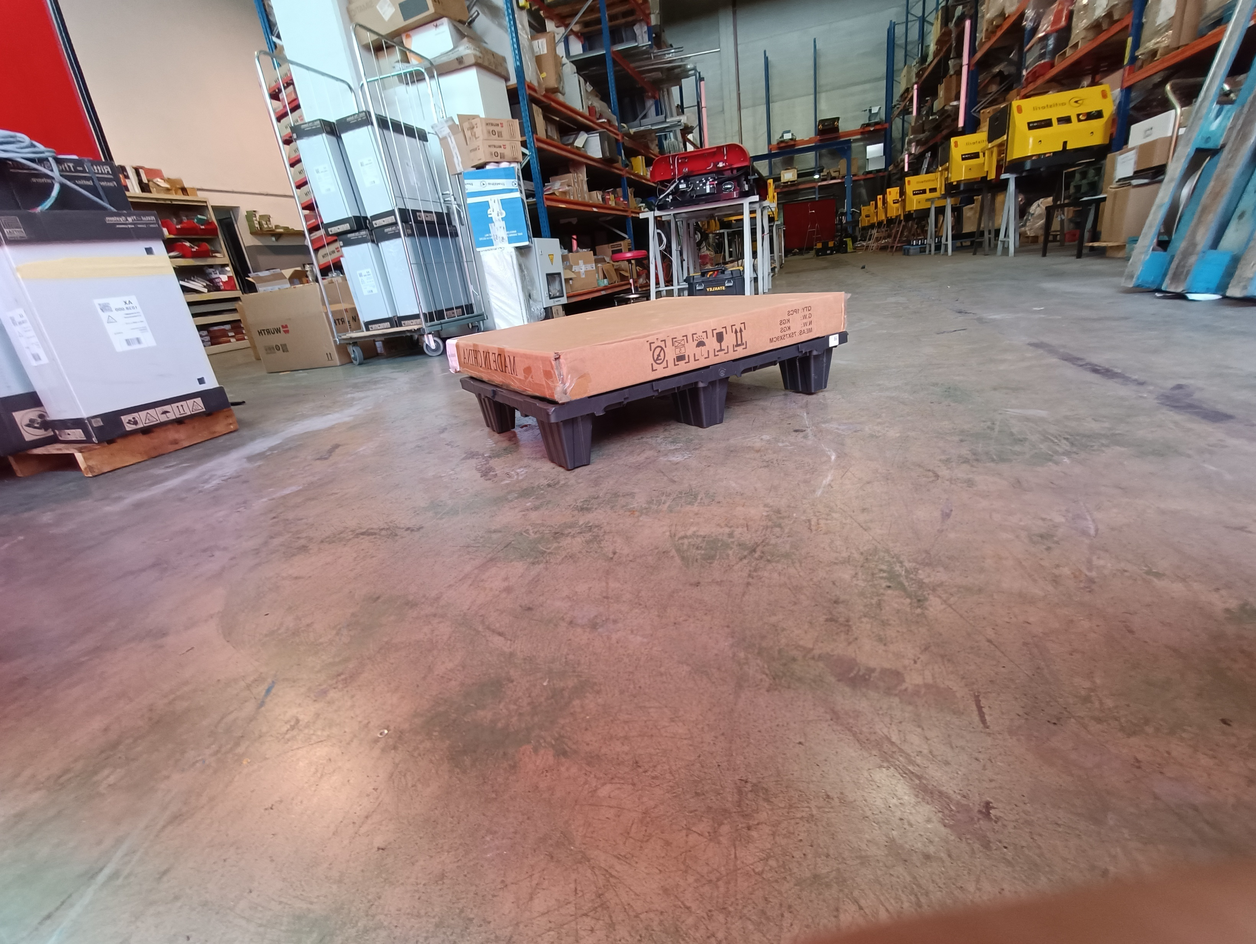block: (532, 399, 596, 468), (781, 338, 839, 392), (674, 379, 731, 432), (467, 385, 513, 435)
front: (555, 333, 859, 490)
hole pallet: (592, 384, 708, 470), (729, 347, 816, 421)
